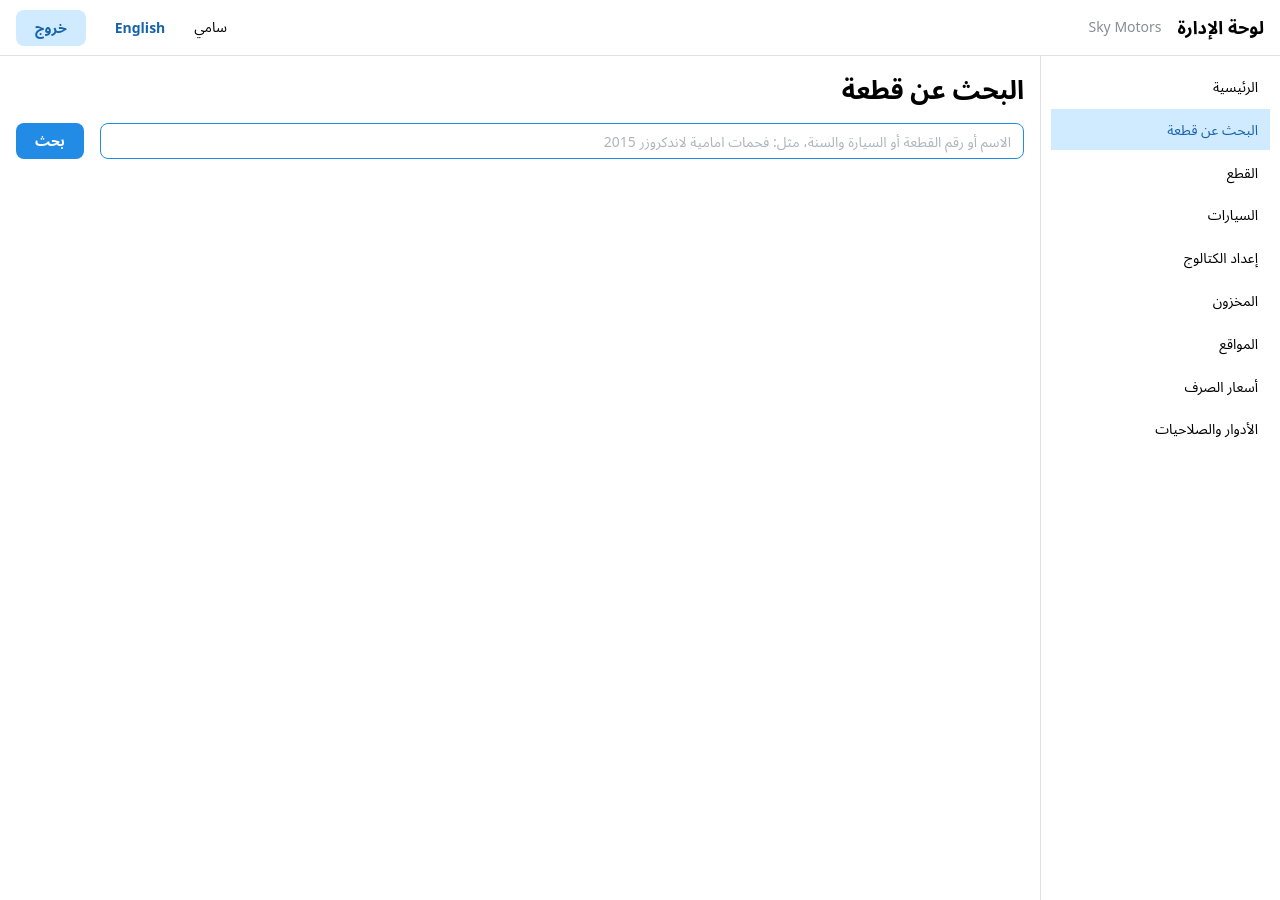
Test: salesperson search › shows each result with its alternatives in the order the API ranked them
Replace the text in the field named "البحث عن قطعة" with "فحمات امامية لاندكروزر 2015-2023". click: [562, 141]
box: [100,123,1024,159]
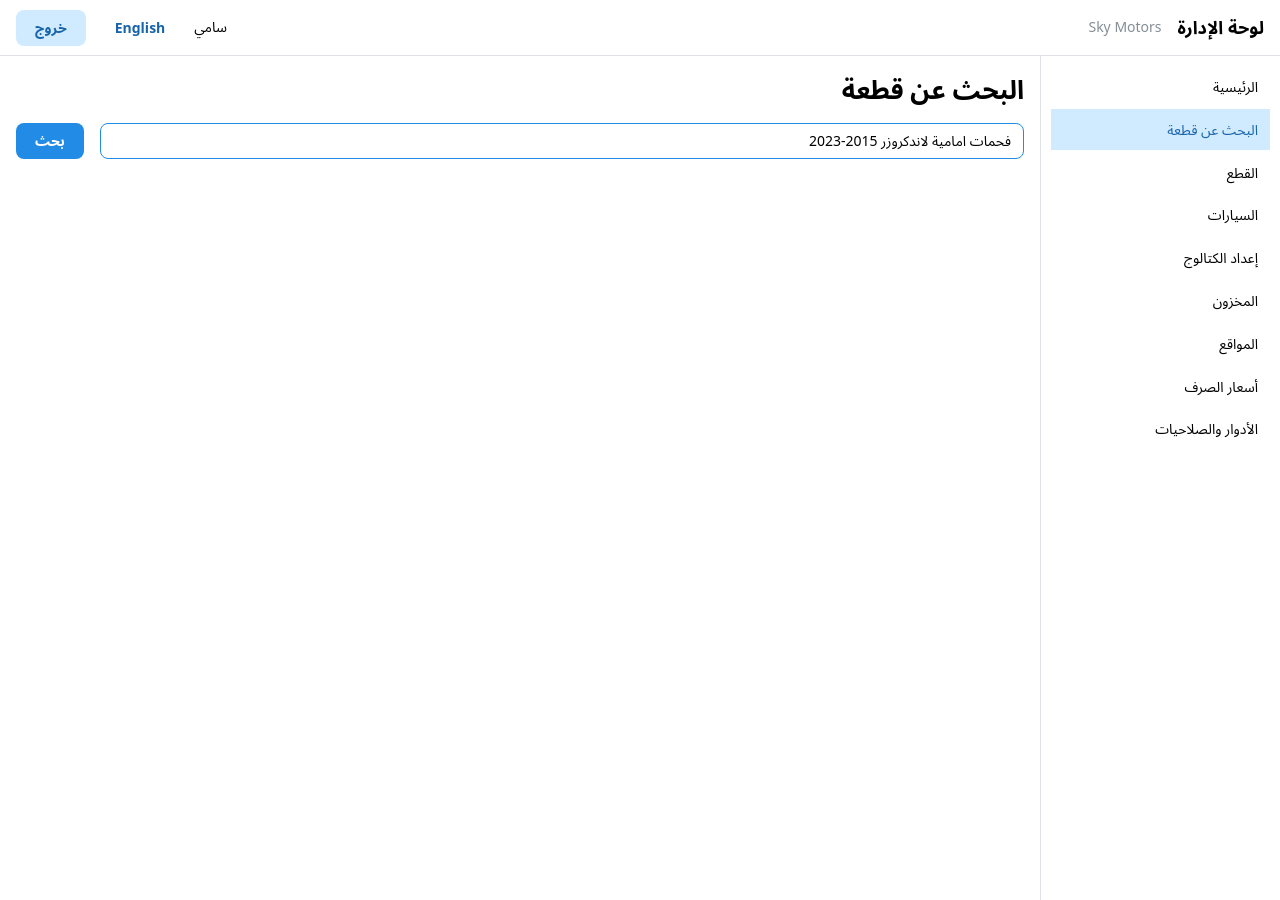
Click the button "بحث". click: [50, 141]
box: [16,123,84,159]
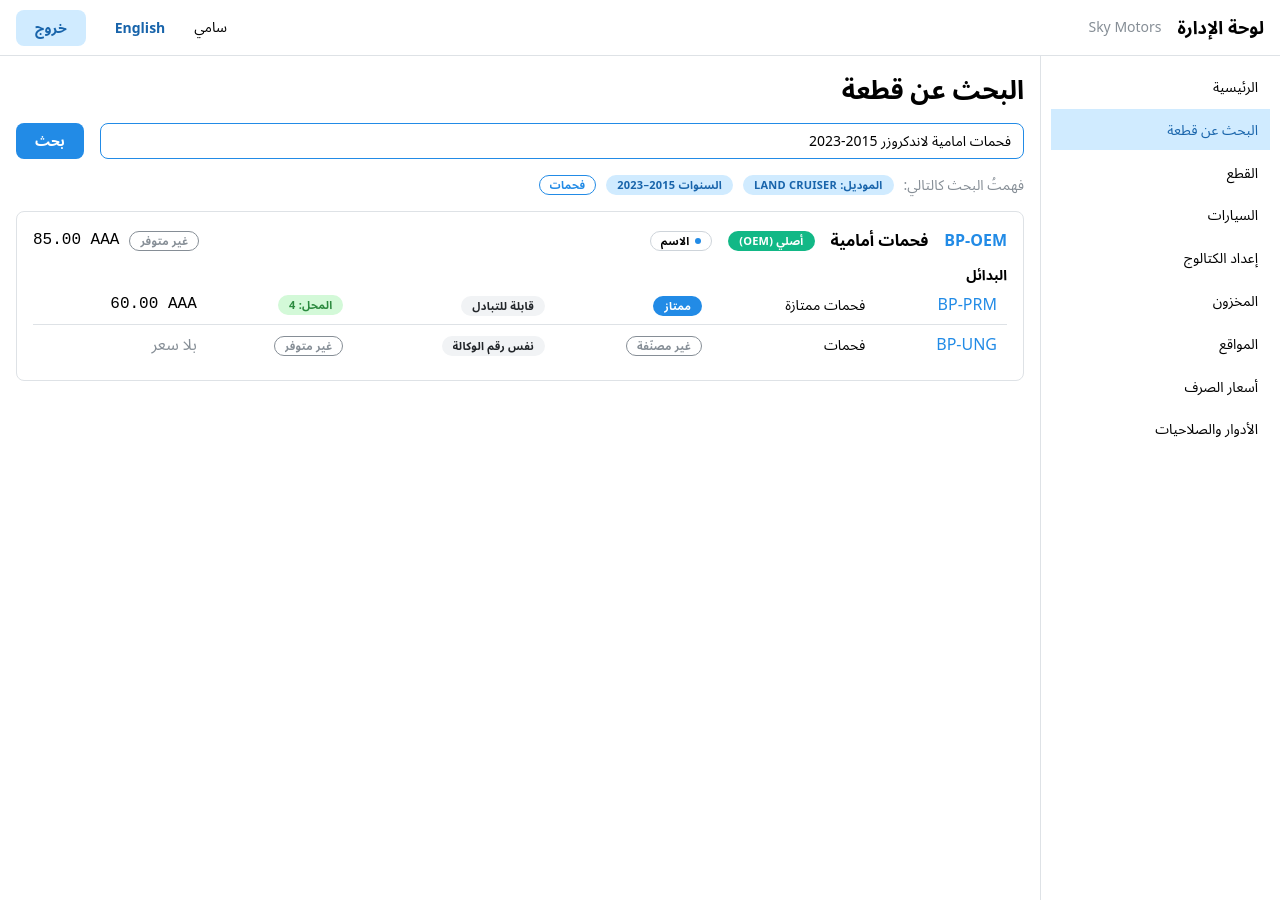
Result: the element with test id "search-result" shows "BP-OEM" at [944,228,1007,253]
Result: the element with test id "search-result" shows "85.00 AAA" at [33,231,119,249]
Result: the element with test id "search-result" shows "أصلي (OEM)" at [739,233,804,248]
